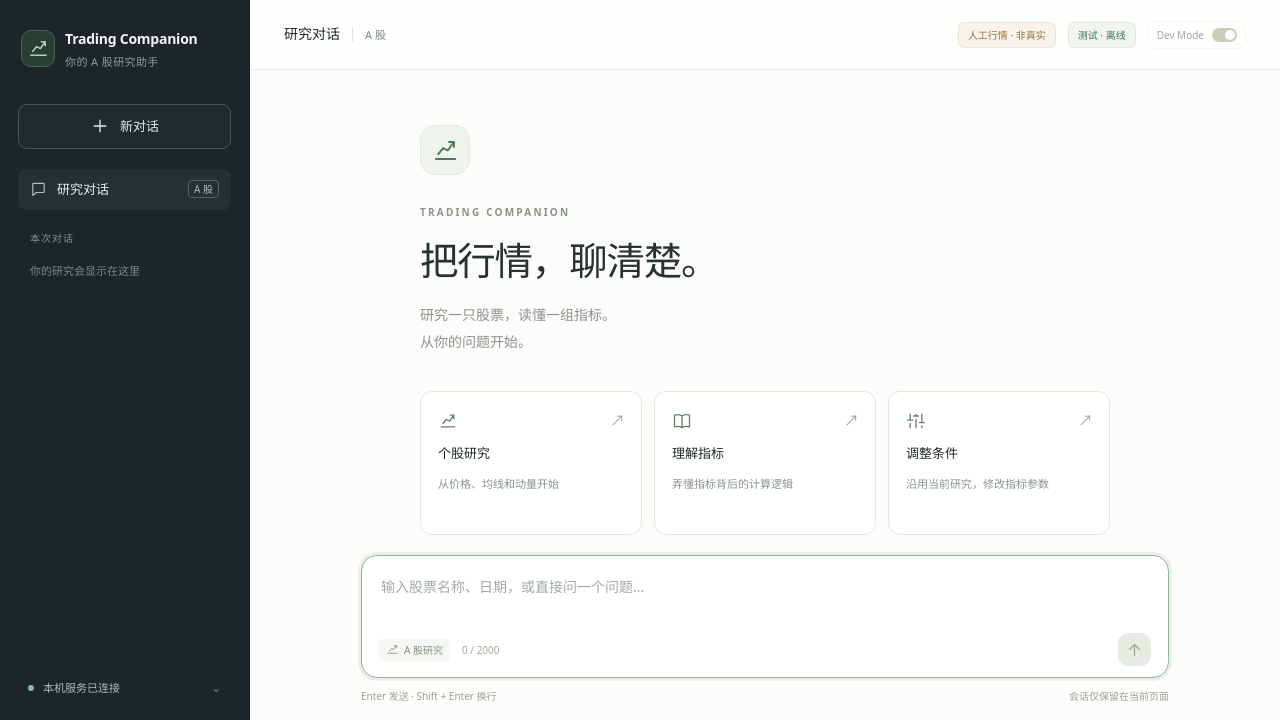
Scenario: research workspace › disables expired horizon choices and hides choices in saved history
In the text box named "研究问题": (765, 599) [379,572,1151,626], type "平安银行现在能买吗"
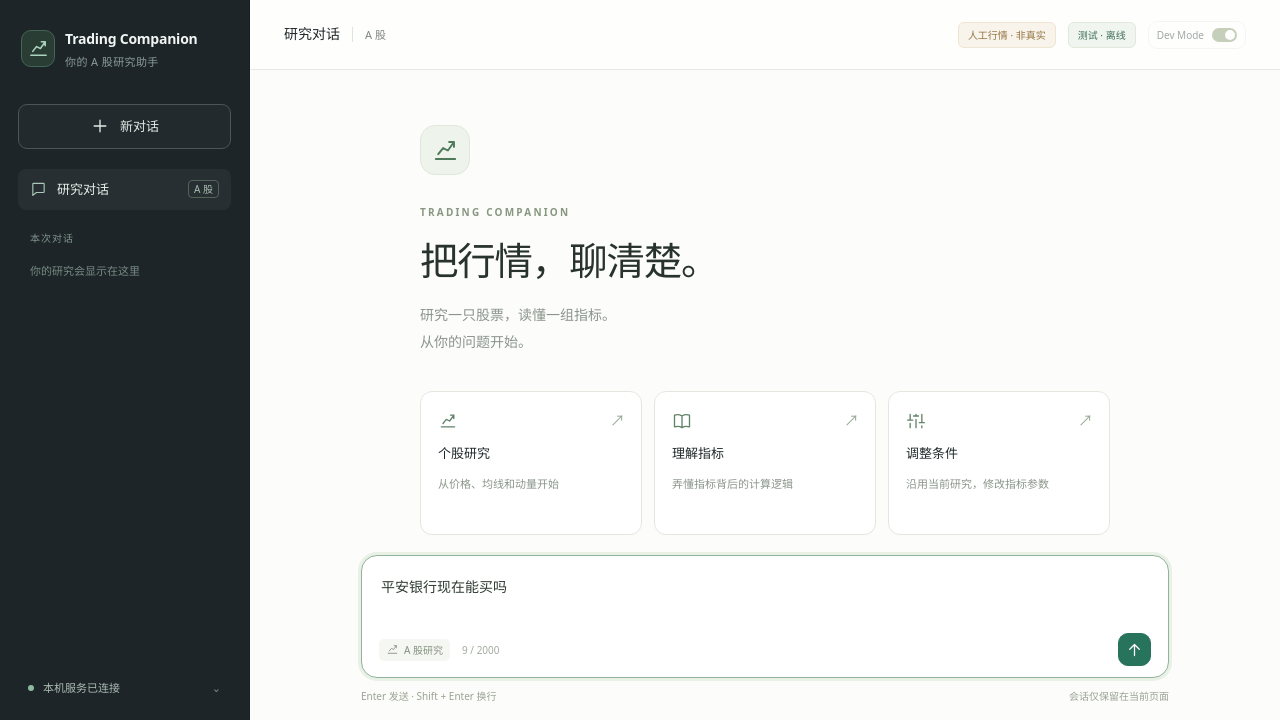
Click the button named "发送问题": (1134, 650) [1118,633,1151,666]
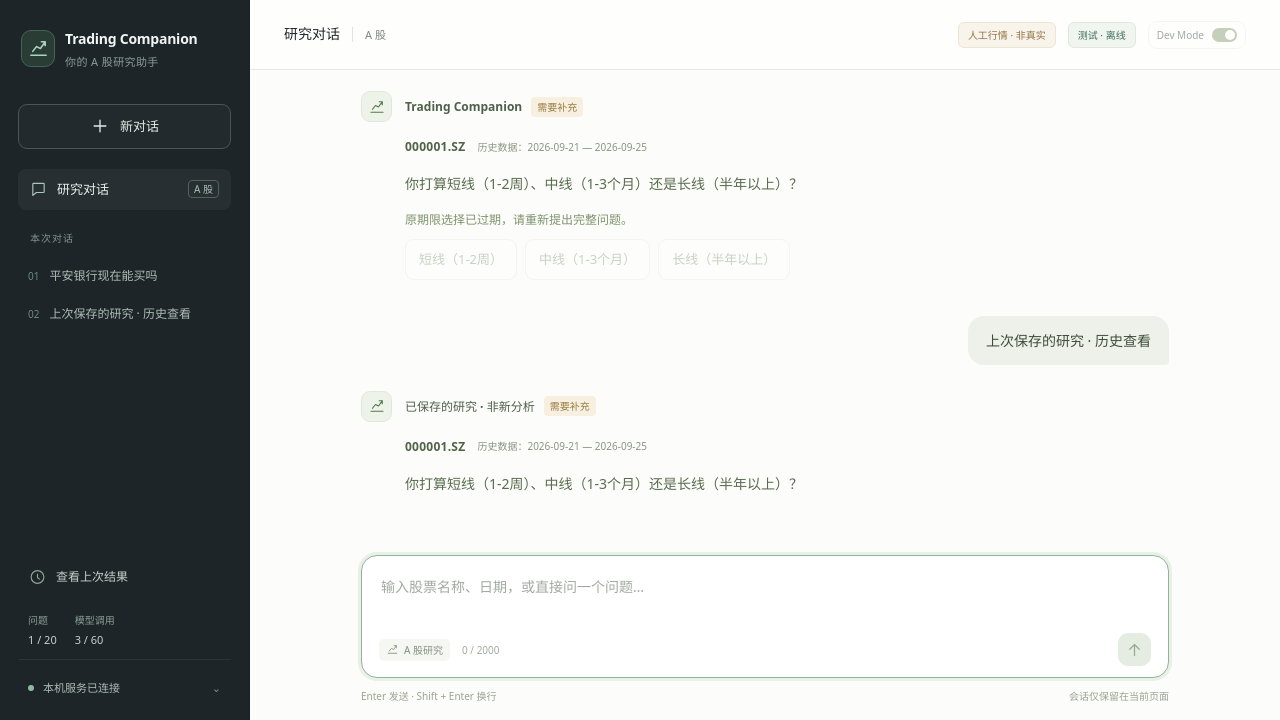
Result: the button "中线（1-3个月）" is disabled at [525,239,650,280]
Result: the text "原期限选择已过期，请重新提出完整问题。" is shown at [405,211,633,228]
Result: the number of buttons "中线（1-3个月）" is 1 at [525,239,650,280]
